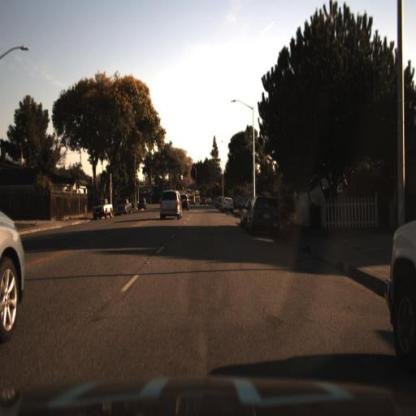car: (384, 215, 416, 376), (249, 195, 282, 235), (159, 189, 183, 221), (91, 198, 115, 223), (238, 200, 253, 234), (113, 194, 134, 218), (92, 198, 115, 219), (114, 196, 136, 217), (221, 196, 237, 216), (175, 194, 190, 215), (137, 196, 149, 215)
